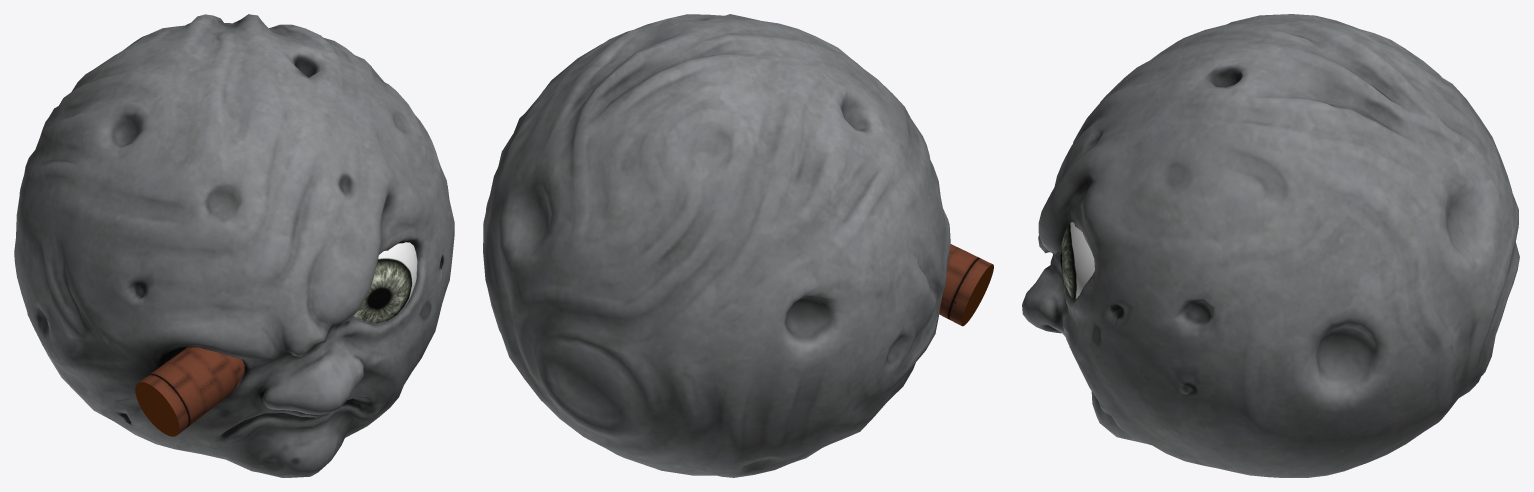
Rendered from lune_melies.glb.
The picture shows the model from 3 angles, left to right: view 1: azimuth 30°, elevation 25°; view 2: azimuth 150°, elevation 25°; view 3: azimuth 270°, elevation 25°; orthographic projection. The views are drawn at different scales.
Parts seen in each view (by area): view 1: Group47082_Moon_0, ZBrush_defualt_group.002_Caps_0, Group17809.002_Eye_0; view 2: Group47082_Moon_0, ZBrush_defualt_group.002_Caps_0; view 3: Group47082_Moon_0, Group17809.002_Eye_0.
Boxes of the visible parts, x1,y1,x2,y2 form: Group47082_Moon_0: [14, 14, 454, 477]; ZBrush_defualt_group.002_Caps_0: [135, 347, 244, 436]; Group17809.002_Eye_0: [353, 242, 417, 323]; Group47082_Moon_0: [483, 14, 950, 477]; ZBrush_defualt_group.002_Caps_0: [939, 244, 993, 326]; Group47082_Moon_0: [1022, 14, 1519, 477]; Group17809.002_Eye_0: [1060, 222, 1094, 299].
Size of the model in its own units: 203 by 200 by 216.
3 materials, 3 textured.
